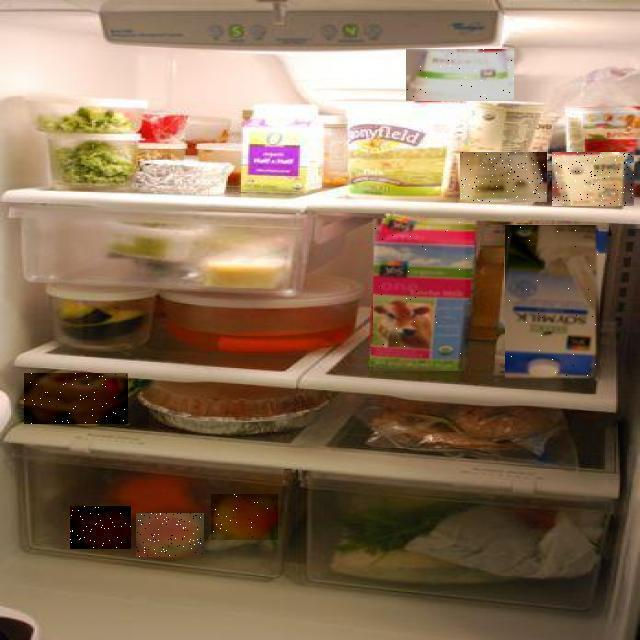Apple: (24, 373, 128, 424), (211, 494, 278, 540), (136, 513, 204, 557), (70, 506, 131, 549)
Milk: (506, 226, 600, 382), (374, 218, 468, 371)
Yoghurt: (406, 49, 514, 101), (552, 153, 634, 207), (460, 152, 547, 202)
